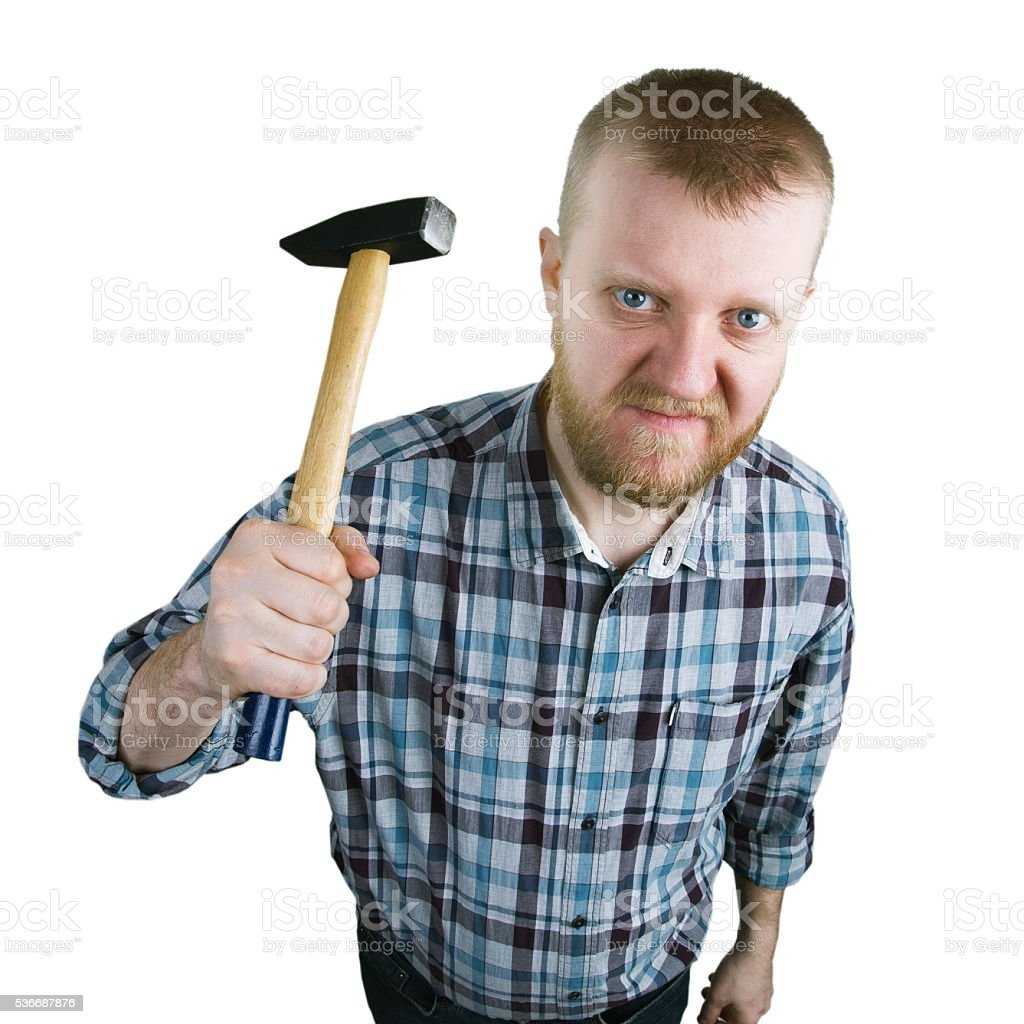hammer: (245, 193, 461, 774)
person: (331, 60, 858, 1024)
